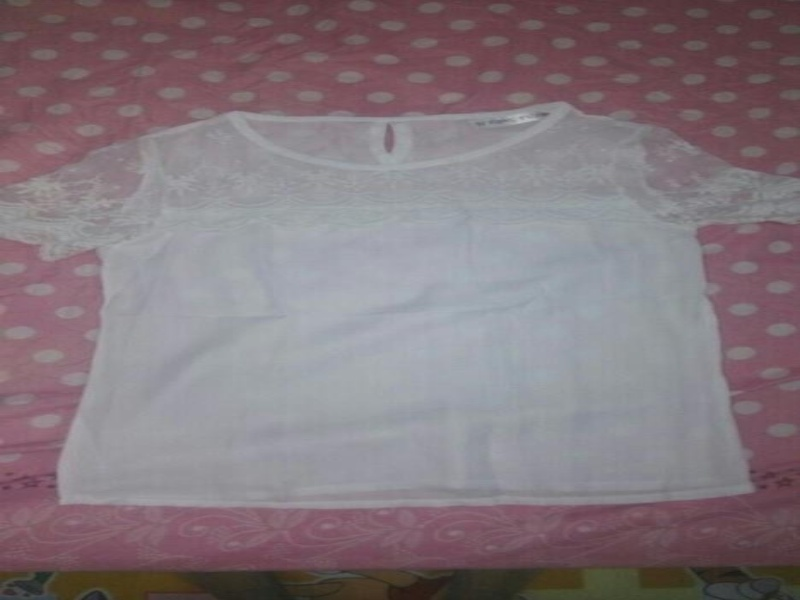short_sleeved_shirt: (0, 99, 795, 513)
